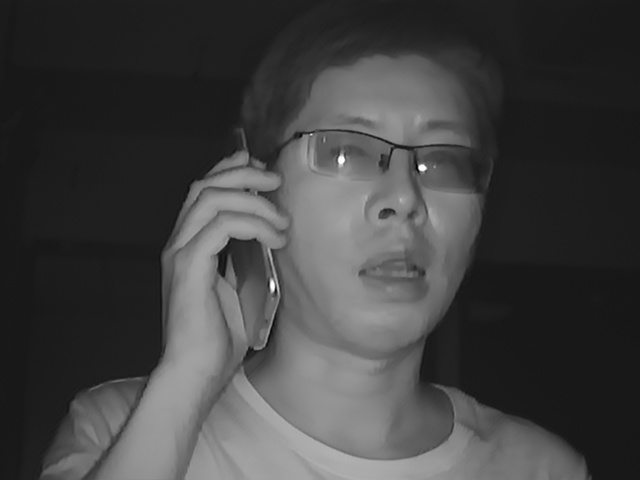hand: (153, 151, 294, 367)
